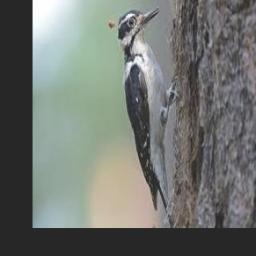Woodpecker: (108, 7, 179, 221)
